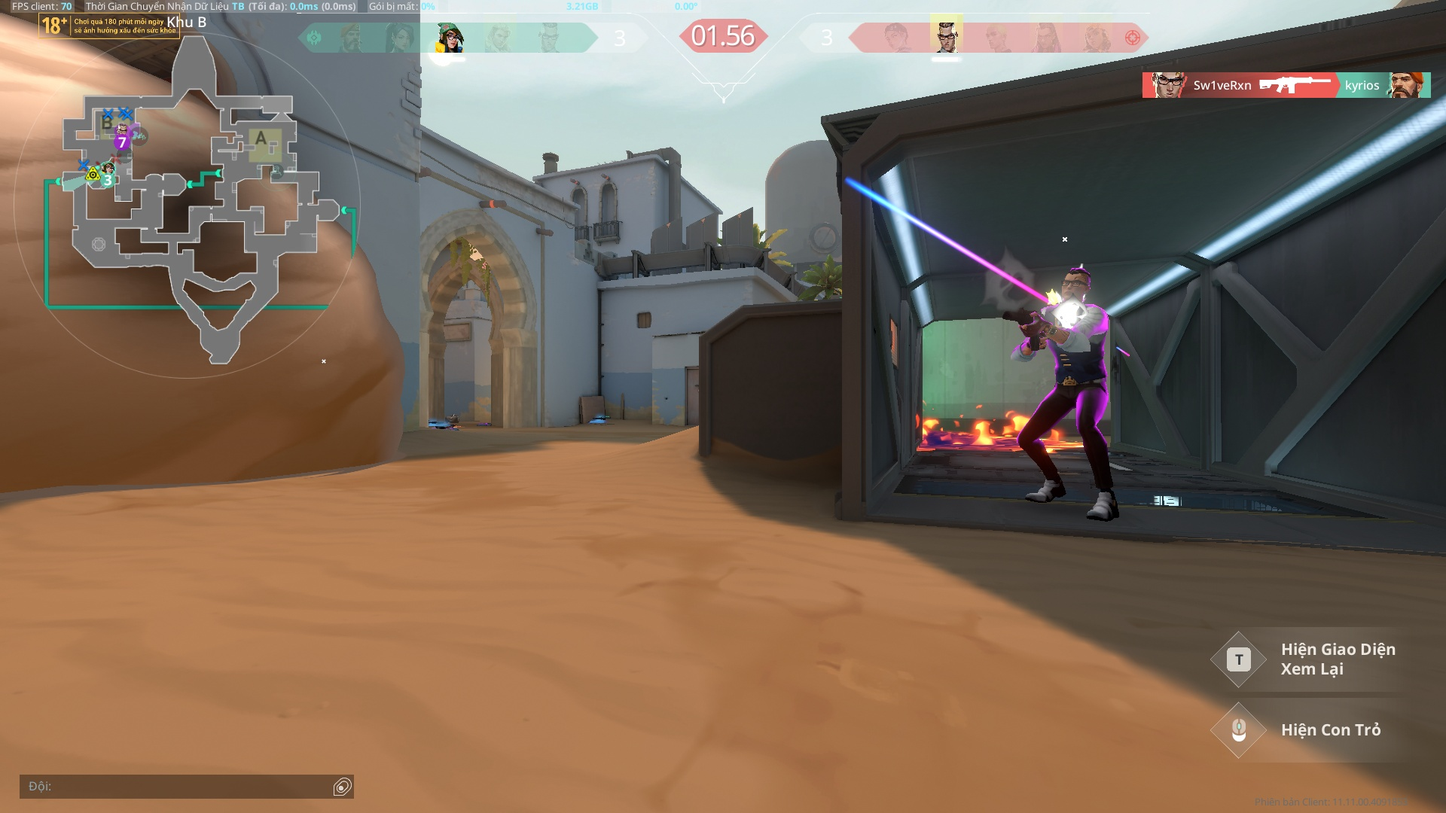body: (1038, 300, 1109, 379)
head: (1059, 264, 1091, 303)
